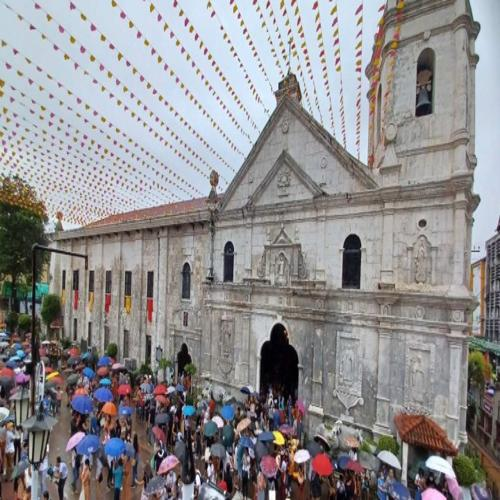Sto. Nino Basilica Church: (207, 1, 480, 456)
